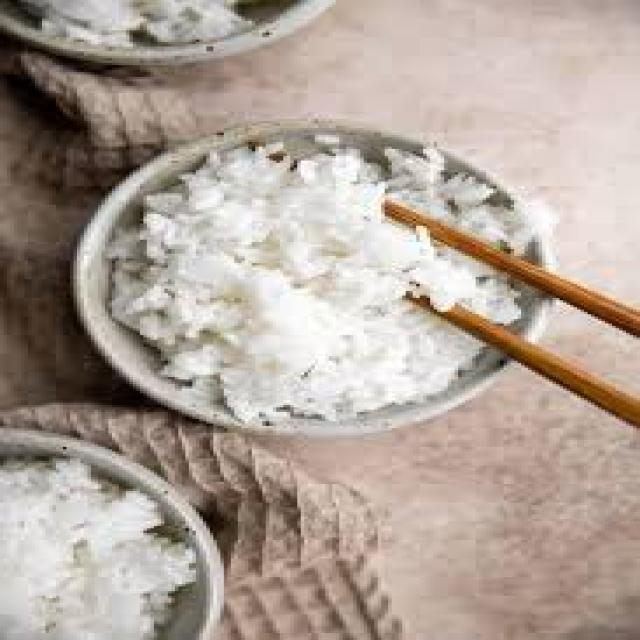White Rice: (76, 148, 538, 418)
